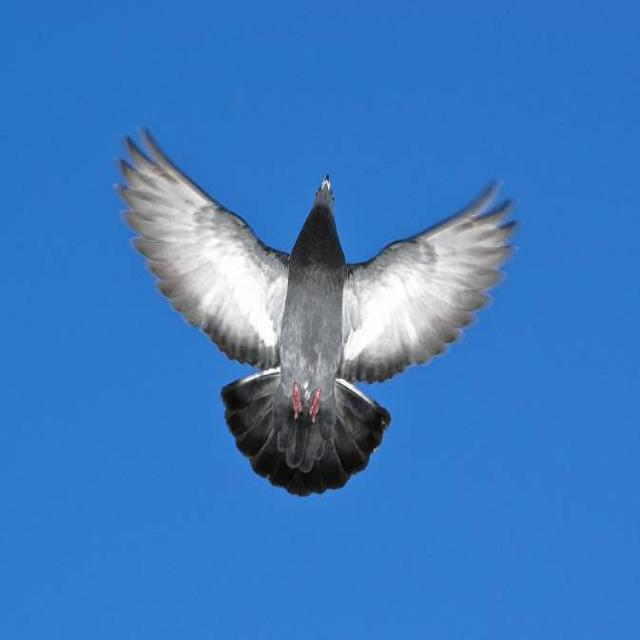Pigeon: (114, 118, 522, 500)
